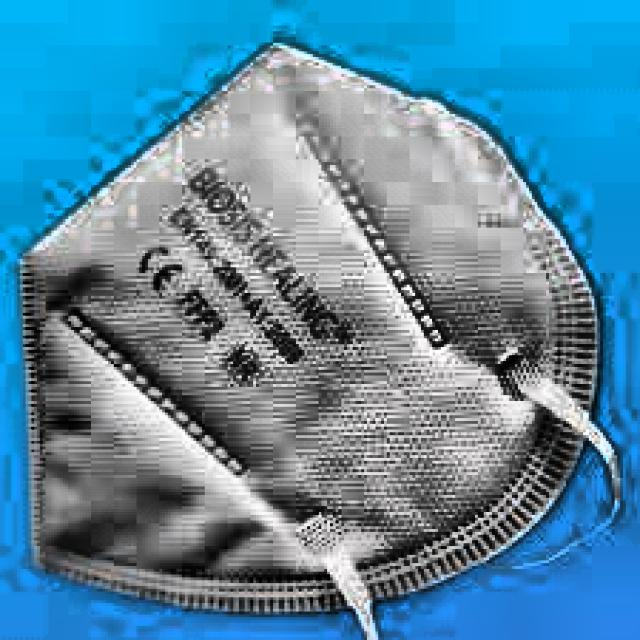trash: (14, 39, 615, 620)
